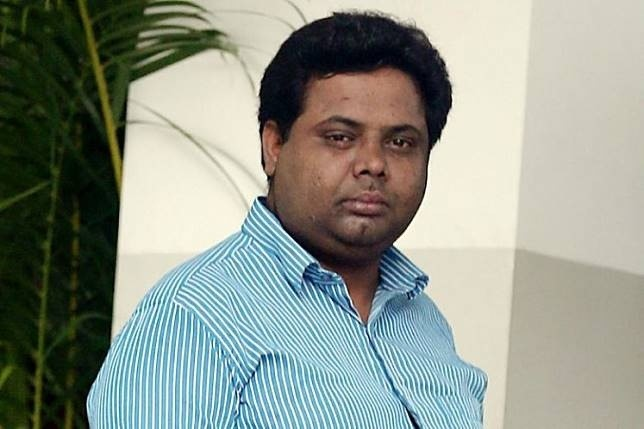face_no_mask: (259, 15, 452, 267)
